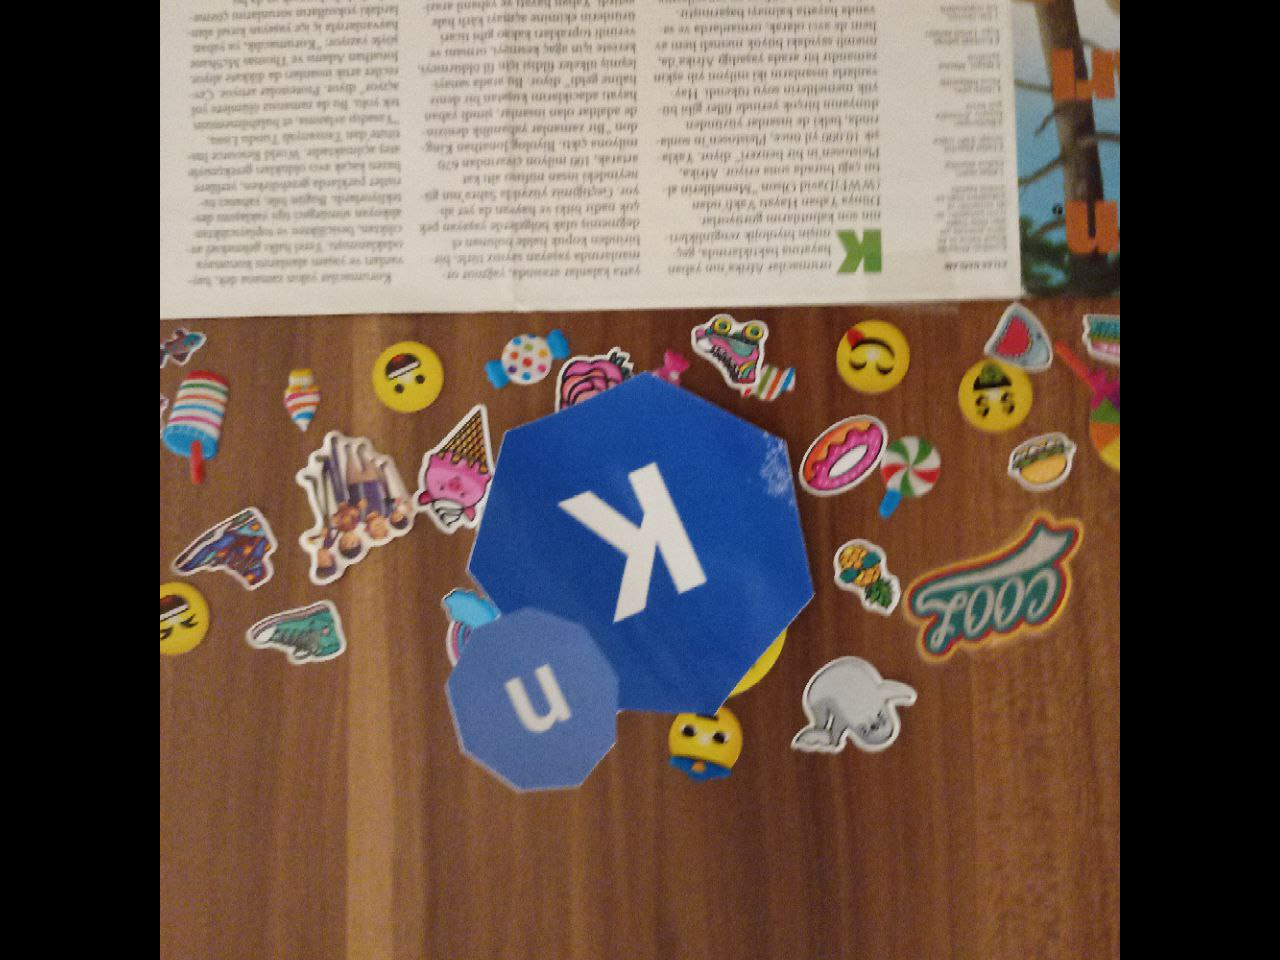knative: (444, 374, 814, 792)
